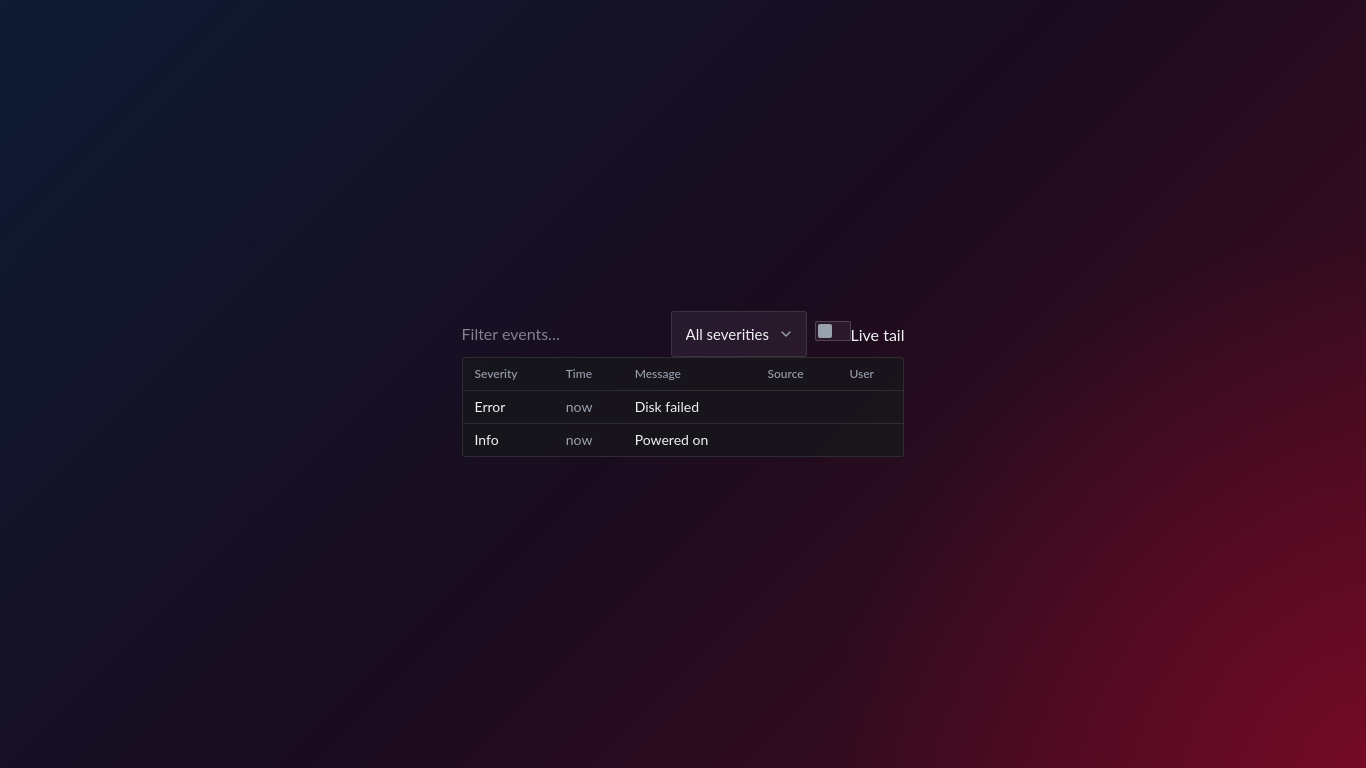
it: EventConsole › filters by severity and opens details
Later steps or results of the test are not shown.
Select "Error" in the dropdown named "Severity": (738, 334) [670,311,806,357]
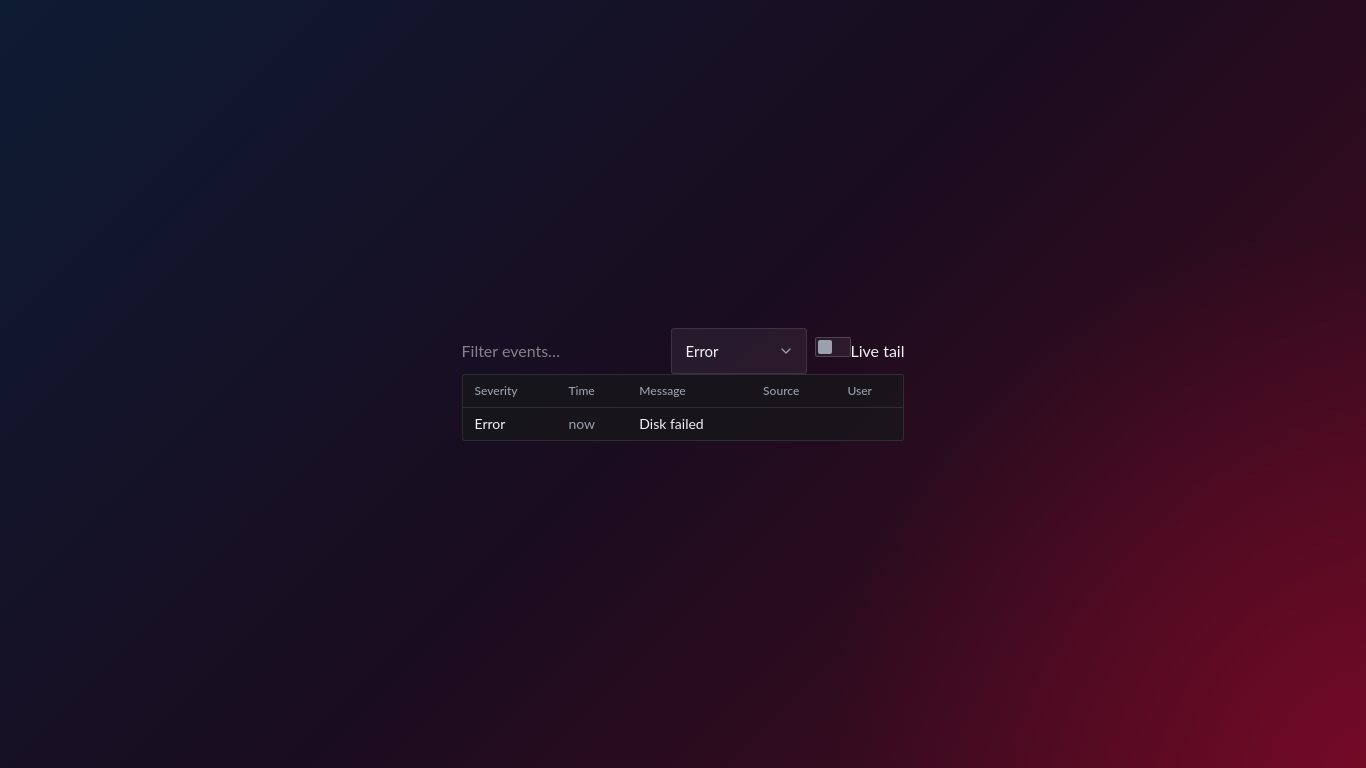
Expected: the text "Powered on" is gone
